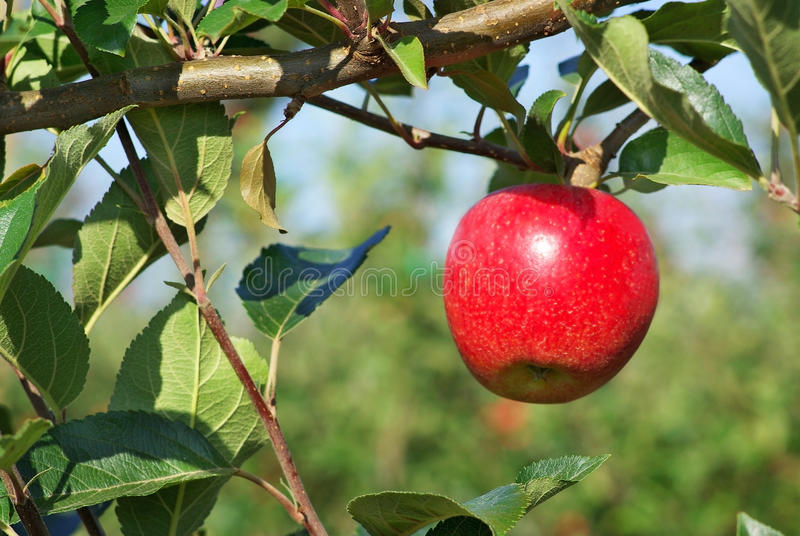apple: (445, 179, 661, 402)
